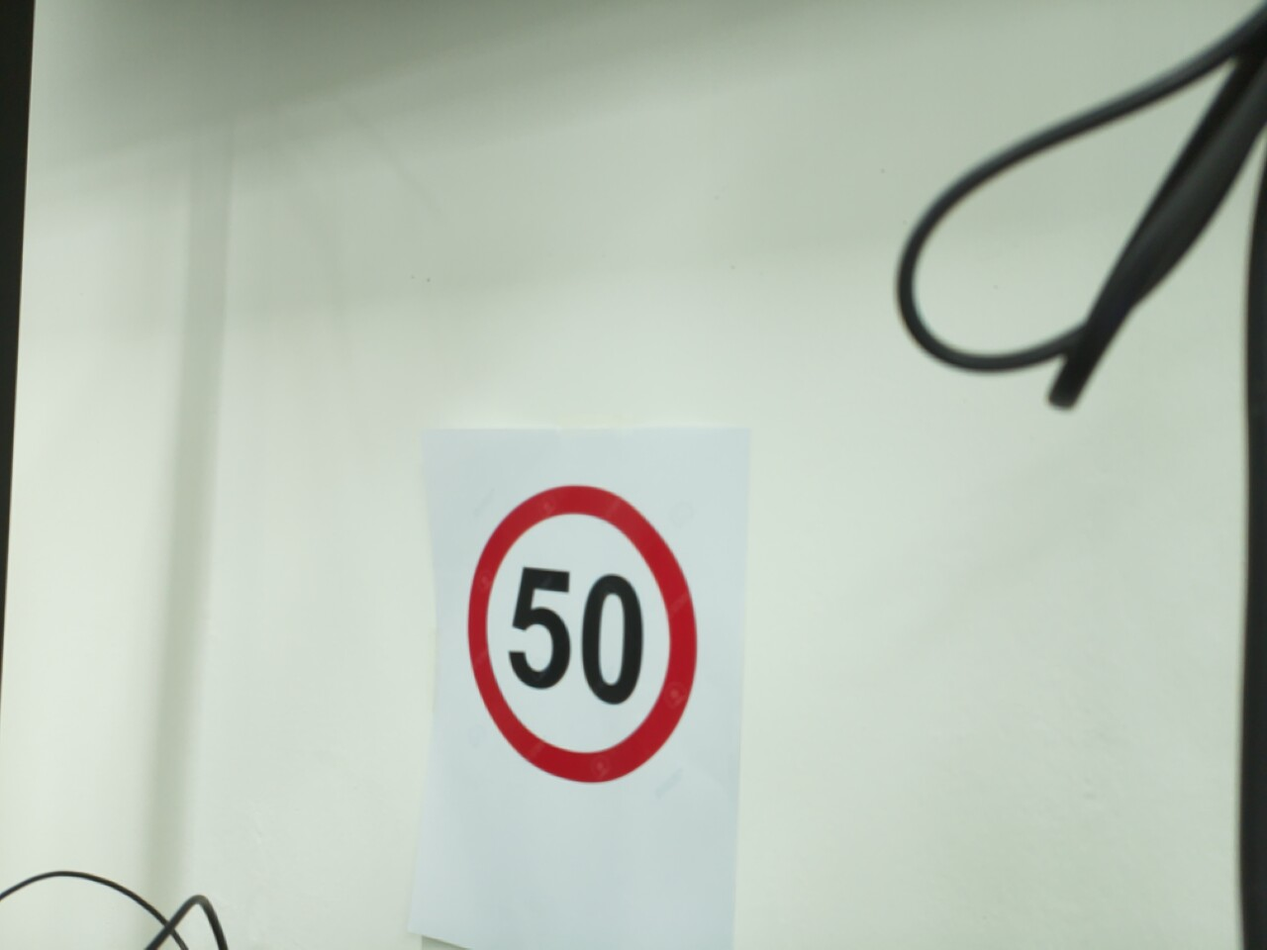speed_50: (459, 475, 705, 793)
